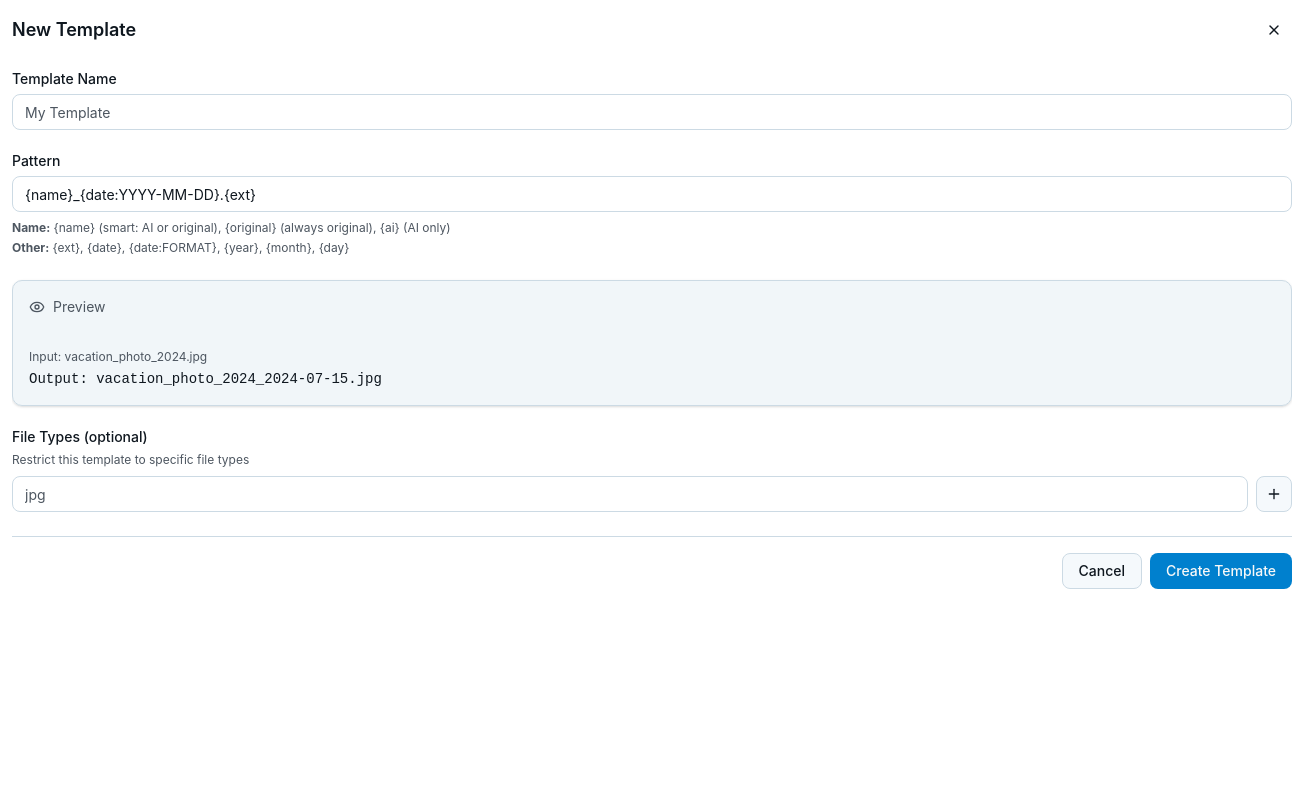
Test case: TemplateEditor › form validation › shows error when pattern has no placeholders
Type "Test" into the field with test id "template-name-input".
click(652, 112); type("Test")  # box [12,94,1292,130]
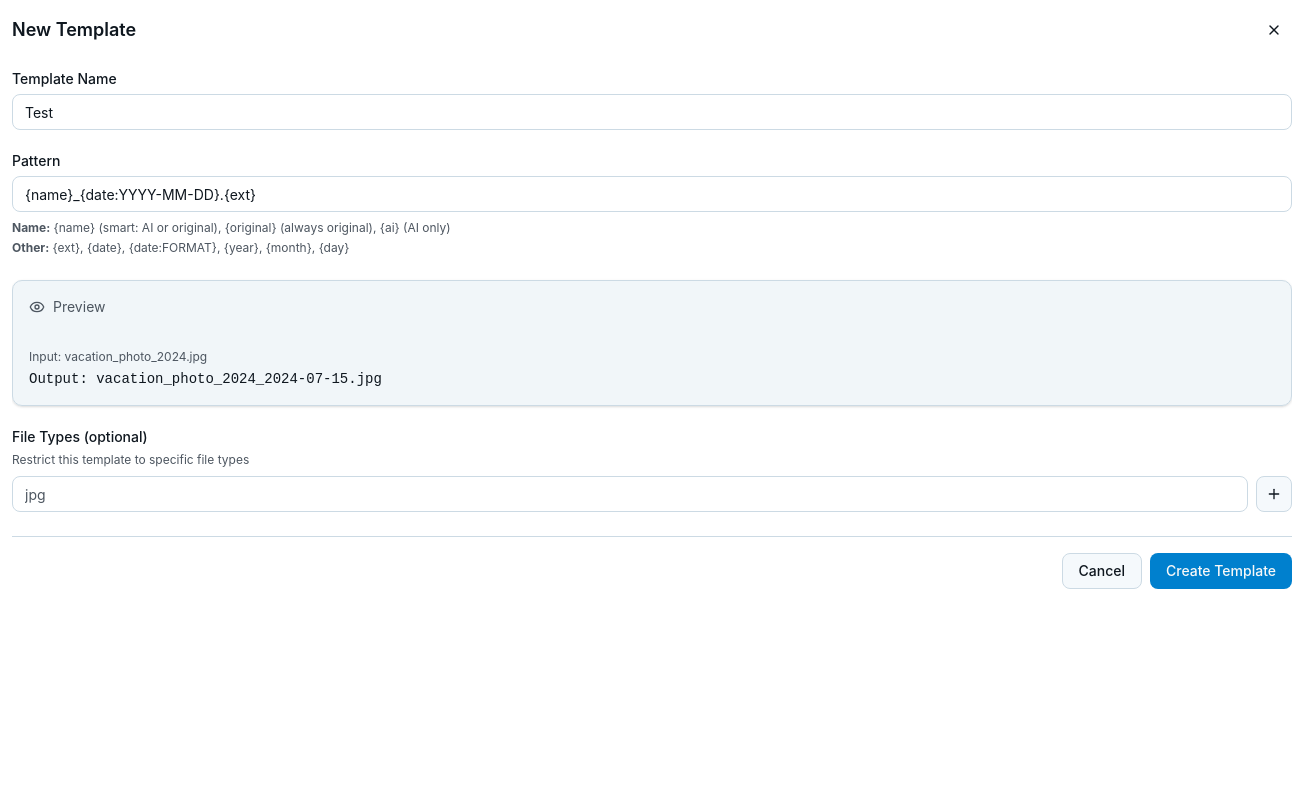
Type "static_name.txt" into the field with test id "template-pattern-input".
click(652, 194); type("static_name.txt")  # box [12,176,1292,212]
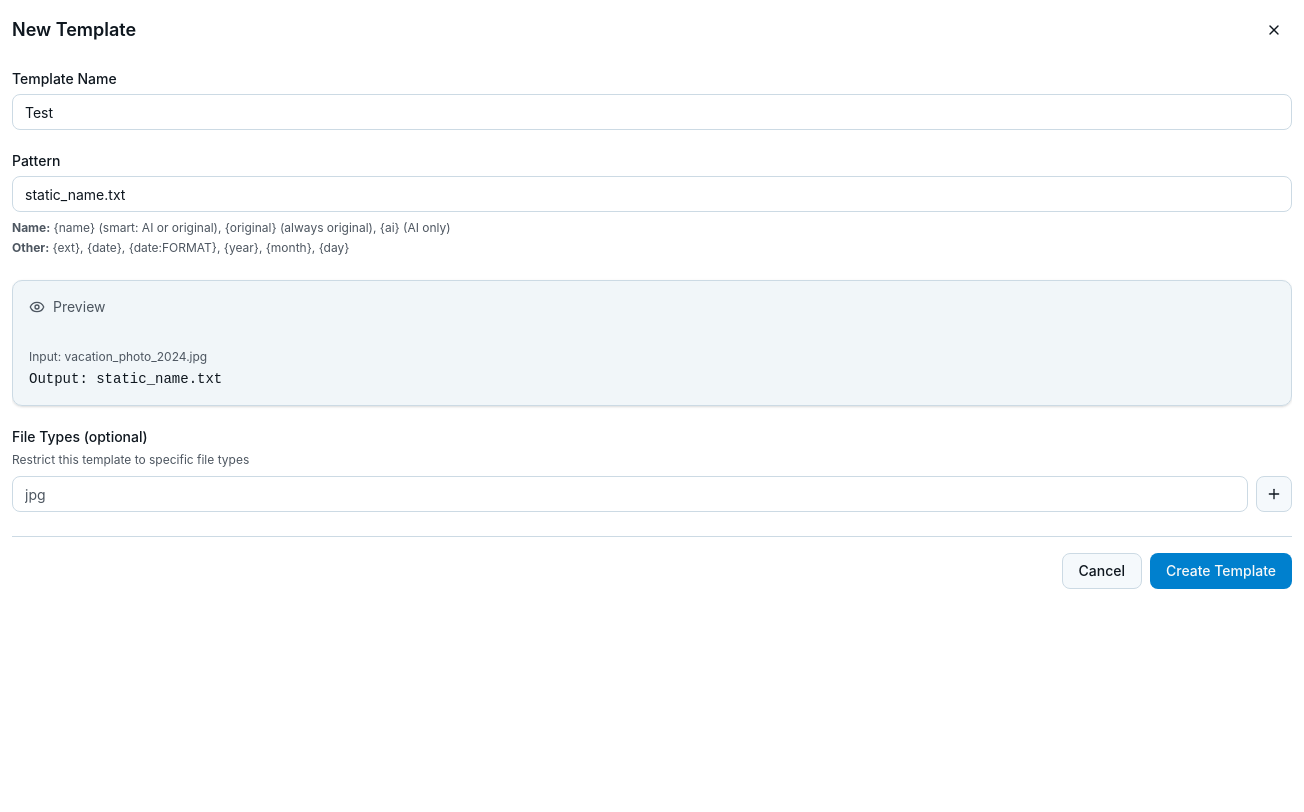
Click the button with test id "save-button".
click(1221, 571)  # box [1150,553,1292,589]
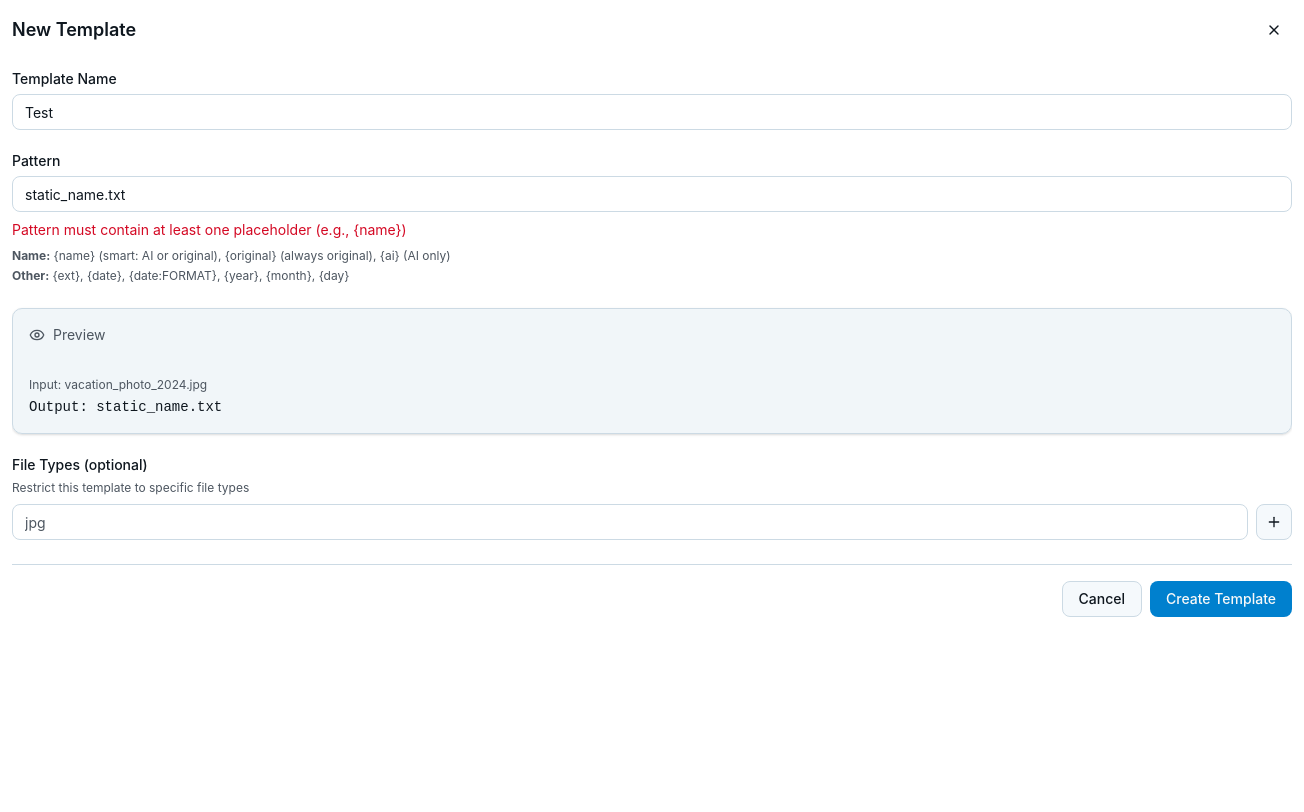
Expected: the text "Pattern must contain at least one placeholder (e.g., {name})" is shown, [12,221,407,238]
